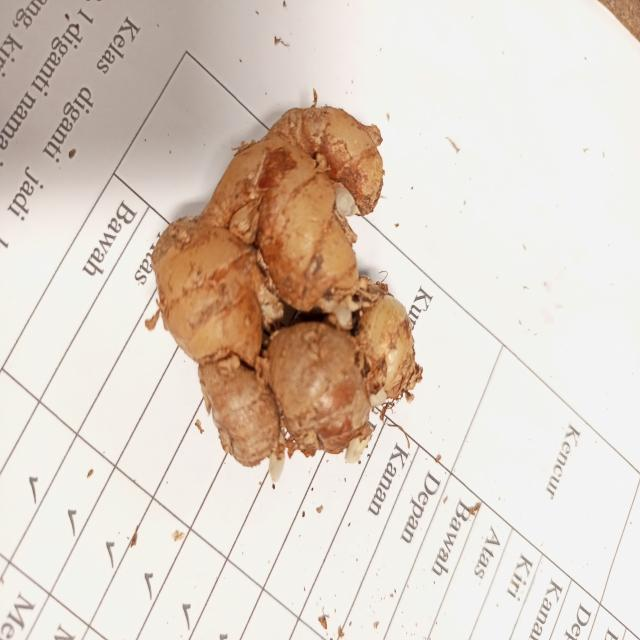ginger: (162, 103, 414, 460)
